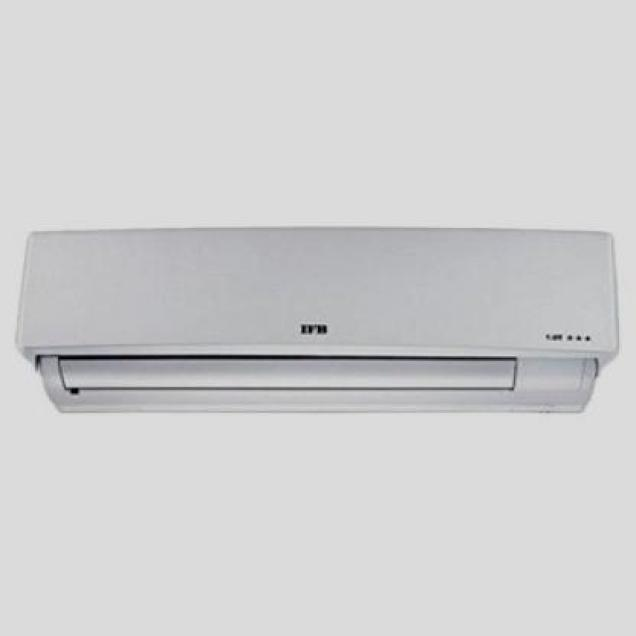AC: (16, 225, 620, 412)
